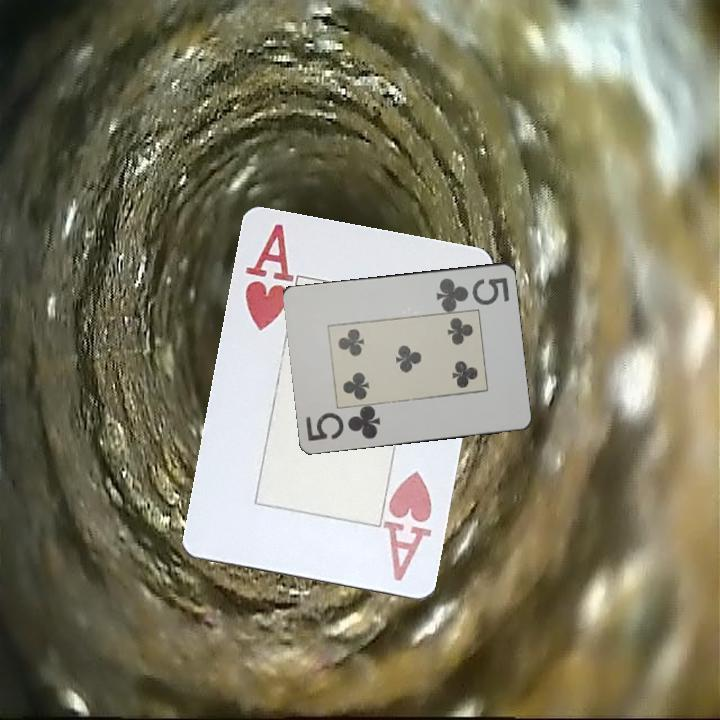5c: (302, 404, 384, 443), (433, 273, 513, 311)
Ah: (383, 468, 436, 585), (242, 220, 295, 334)
